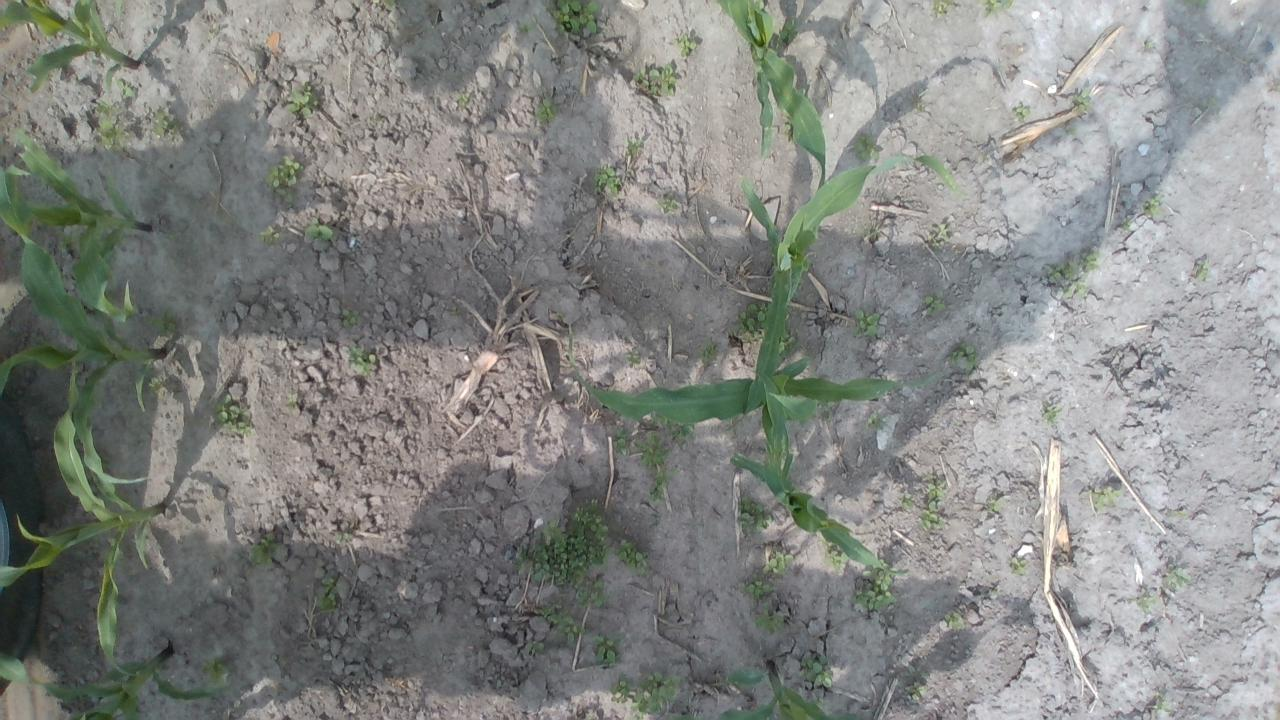Maize: (737, 151, 962, 416), (0, 356, 172, 680), (0, 161, 168, 486), (566, 322, 944, 432), (727, 369, 912, 580), (0, 126, 156, 326), (716, 0, 826, 205), (0, 639, 233, 720), (0, 0, 143, 93)
Weeds: (514, 502, 650, 608), (610, 413, 694, 499), (610, 669, 688, 720), (736, 572, 787, 636), (737, 300, 796, 354), (1042, 250, 1102, 296), (91, 100, 131, 158), (851, 569, 901, 611), (912, 480, 947, 538), (264, 157, 304, 206), (548, 0, 599, 38), (538, 608, 585, 644), (629, 62, 680, 94), (207, 395, 250, 432), (800, 648, 836, 690), (737, 498, 778, 534), (246, 530, 282, 566), (1088, 481, 1128, 513), (589, 633, 621, 666), (310, 576, 339, 610), (904, 665, 931, 701), (346, 344, 376, 375), (1163, 566, 1192, 598), (282, 89, 314, 117), (304, 222, 334, 250), (146, 110, 177, 137), (951, 344, 978, 374), (851, 308, 880, 335), (530, 99, 558, 126), (654, 194, 685, 218), (1067, 88, 1093, 116), (764, 550, 795, 573), (596, 165, 620, 194), (1187, 257, 1213, 283), (113, 78, 140, 102), (921, 296, 946, 318), (848, 134, 868, 161), (1142, 190, 1166, 212), (1138, 586, 1156, 615), (926, 222, 946, 248), (676, 34, 698, 57), (336, 308, 358, 330), (256, 225, 278, 247), (985, 492, 1003, 518), (940, 611, 964, 630), (701, 338, 718, 364), (330, 534, 360, 548), (1042, 403, 1060, 426), (932, 0, 958, 15), (898, 490, 914, 511), (628, 344, 642, 368), (1154, 698, 1173, 715), (626, 139, 642, 158), (868, 415, 888, 430), (1010, 554, 1028, 570), (1011, 103, 1026, 122), (451, 90, 470, 103), (985, 1, 1012, 9)
